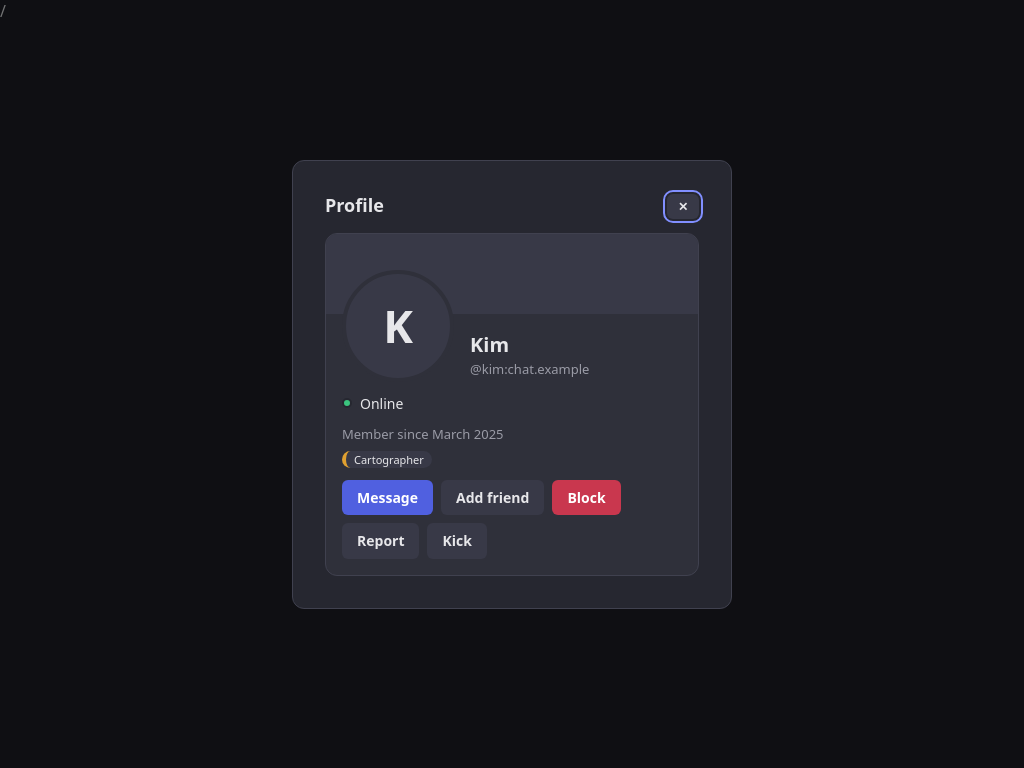
it: the profile dialog › opened from a community › reports a failed kick, and stays open
Click the button "Kick": (457, 541) [428,523,487,558]
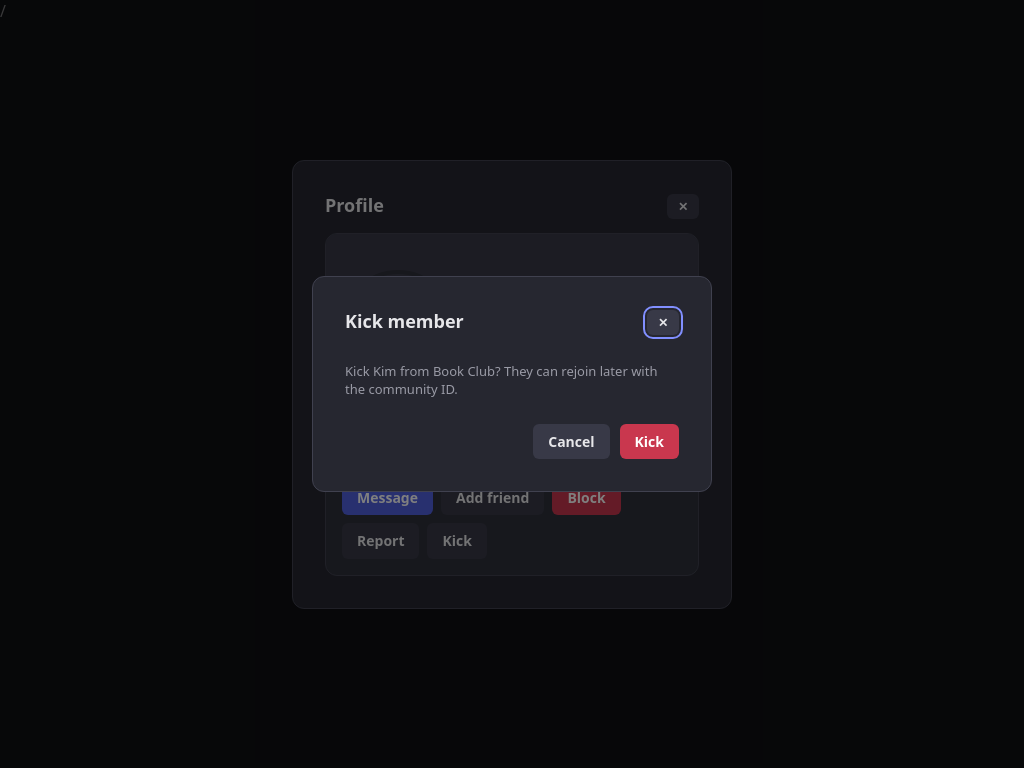
Click the button "Kick": (649, 442) [620,424,679,459]
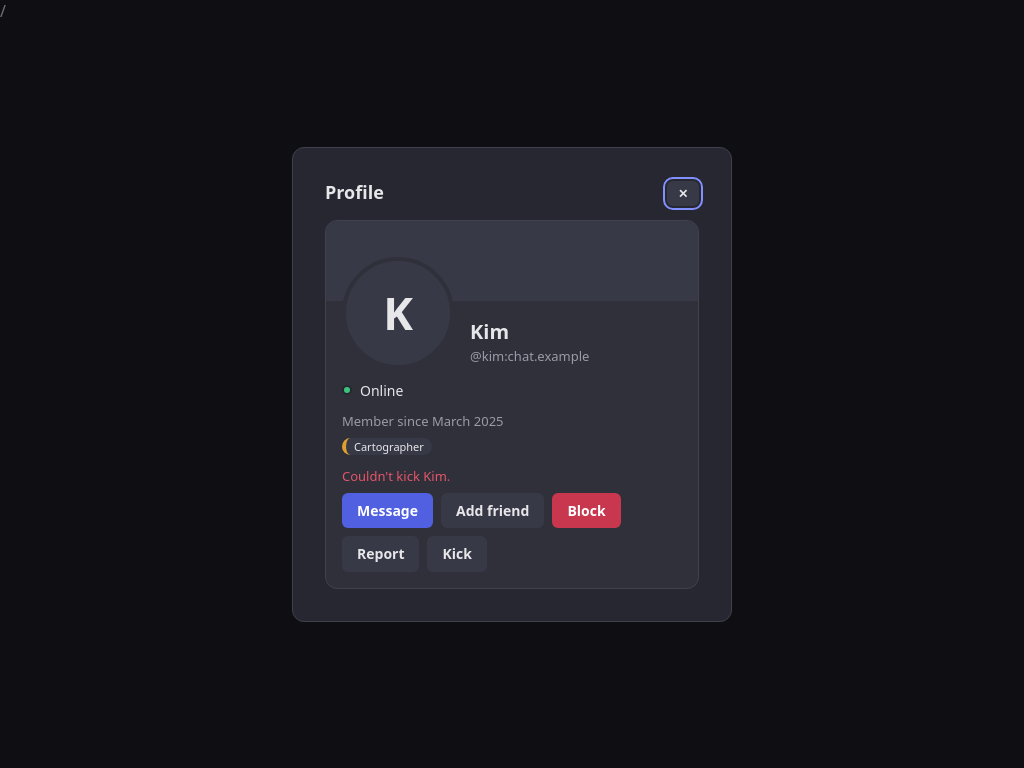
expect the message shows "Couldn't kick Kim": met, box [342,466,450,484]
